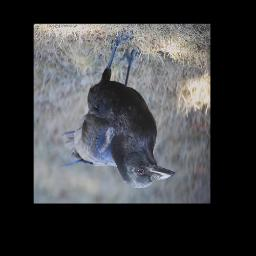Crow: (61, 33, 175, 190)
